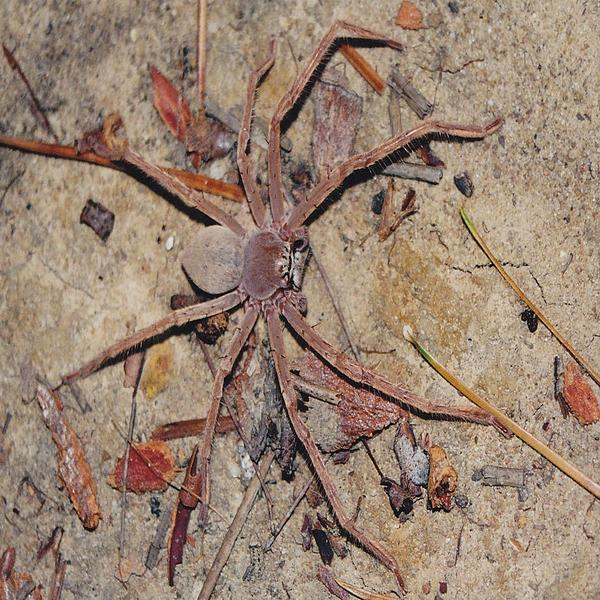Huntsman Spider: (70, 22, 503, 565)
